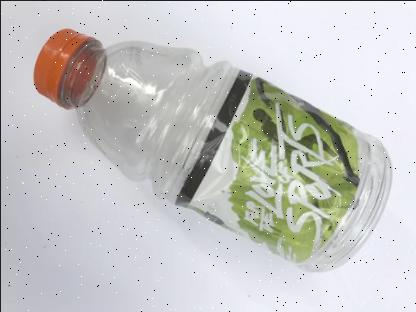Plastic Bottle: (32, 28, 392, 274)
